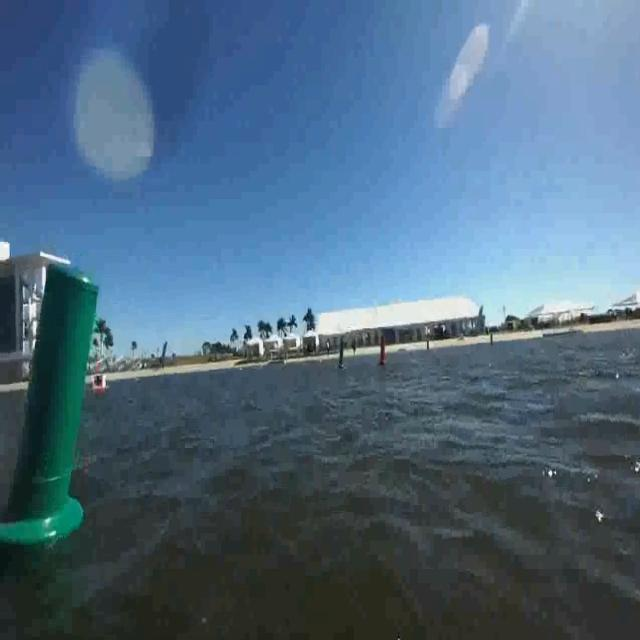green-column-buoy: (2, 262, 102, 549), (338, 336, 348, 371)
red-column-buoy: (378, 335, 389, 368)
